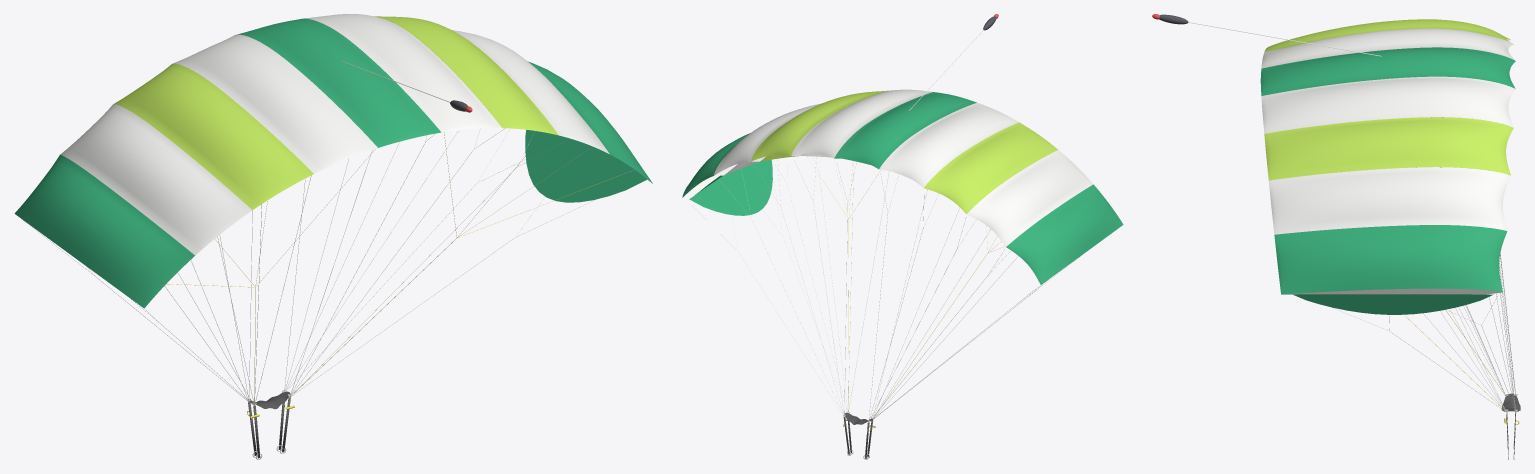
The model's file is PD_Silhouette_190.glb.
3 renders of one model, left to right at view 1: azimuth 30°, elevation 25°; view 2: azimuth 150°, elevation 25°; view 3: azimuth 270°, elevation 25°, orthographic. The views are drawn at different scales.
Visible parts, largest first — view 1: TopSkin, Stabilizers, Lines, SteeringLines, Risers; view 2: TopSkin, Lines, Stabilizers, BottomSkin; view 3: TopSkin, Stabilizers, Lines, Ribs, PilotChute.
Part boxes in pixels (box(x1,y1,x2,y2)): TopSkin: box(14, 14, 652, 308); Stabilizers: box(525, 130, 646, 202); Lines: box(23, 129, 594, 405); SteeringLines: box(167, 132, 633, 414); Risers: box(247, 392, 294, 459); TopSkin: box(682, 89, 1123, 284); Lines: box(692, 158, 1079, 422); Stabilizers: box(689, 159, 772, 215); BottomSkin: box(695, 153, 948, 198); TopSkin: box(1260, 19, 1515, 294); Stabilizers: box(1293, 294, 1493, 314); Lines: box(1332, 68, 1515, 411); Ribs: box(1283, 39, 1510, 294); PilotChute: box(1152, 14, 1381, 56).
Size of the model in its own units: 5.82 by 5.12 by 3.88.
